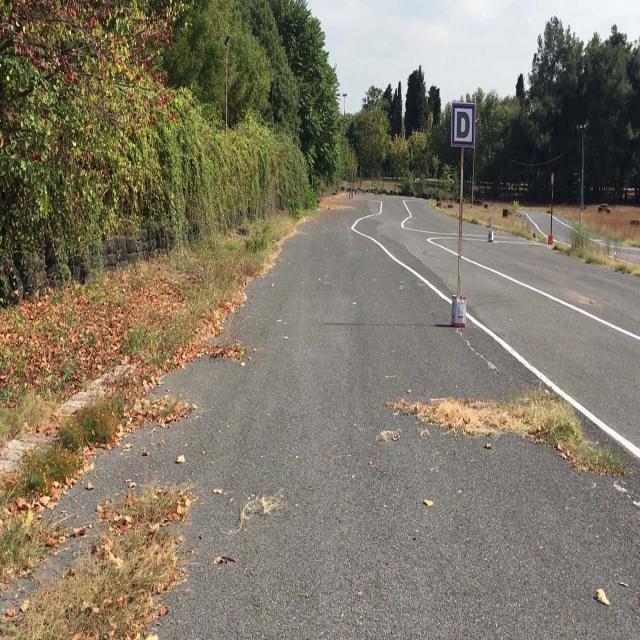durak: (452, 103, 474, 145)
